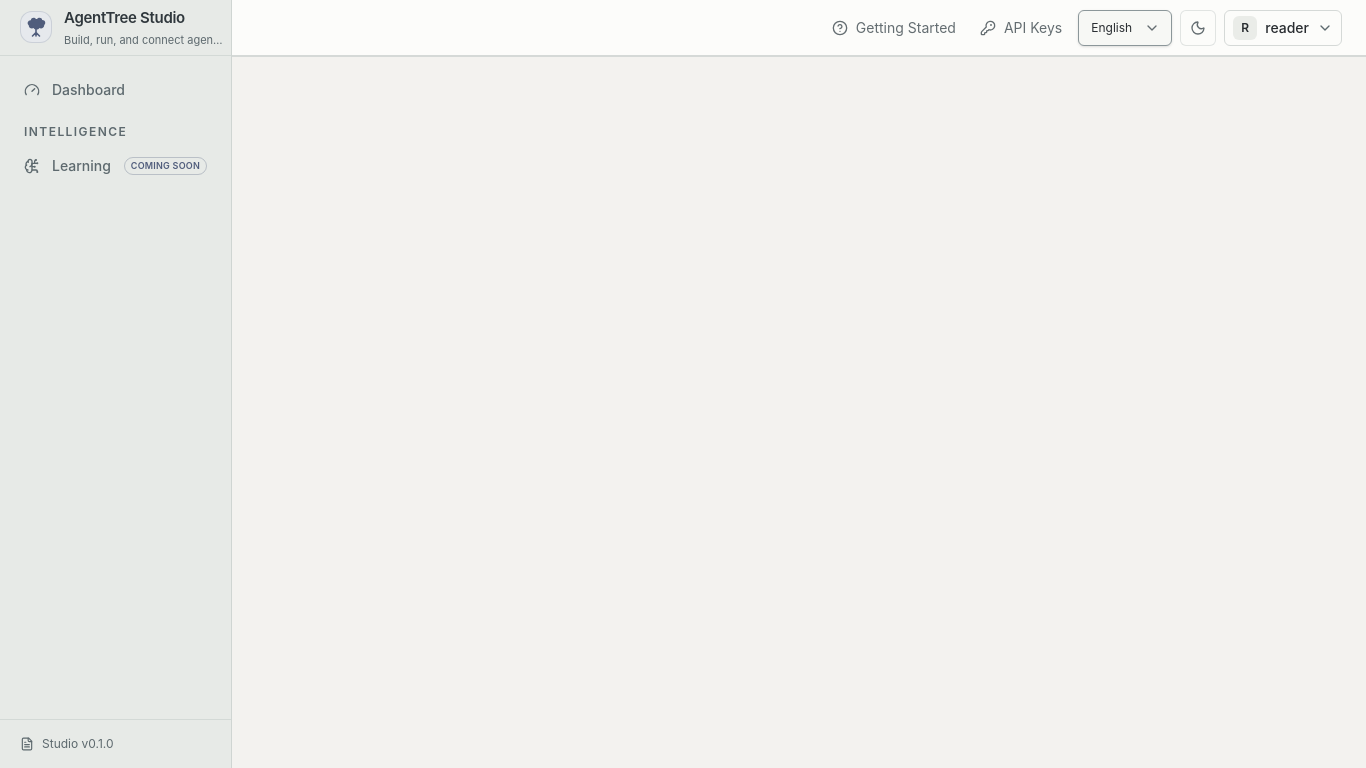
Test case: uses a downward popup and keyboard menu navigation
The width and height of the screenshot is (1366, 768).
Step 1. Click the button with aria-label "Account menu" → (1283,28), box [1224,10,1342,46]
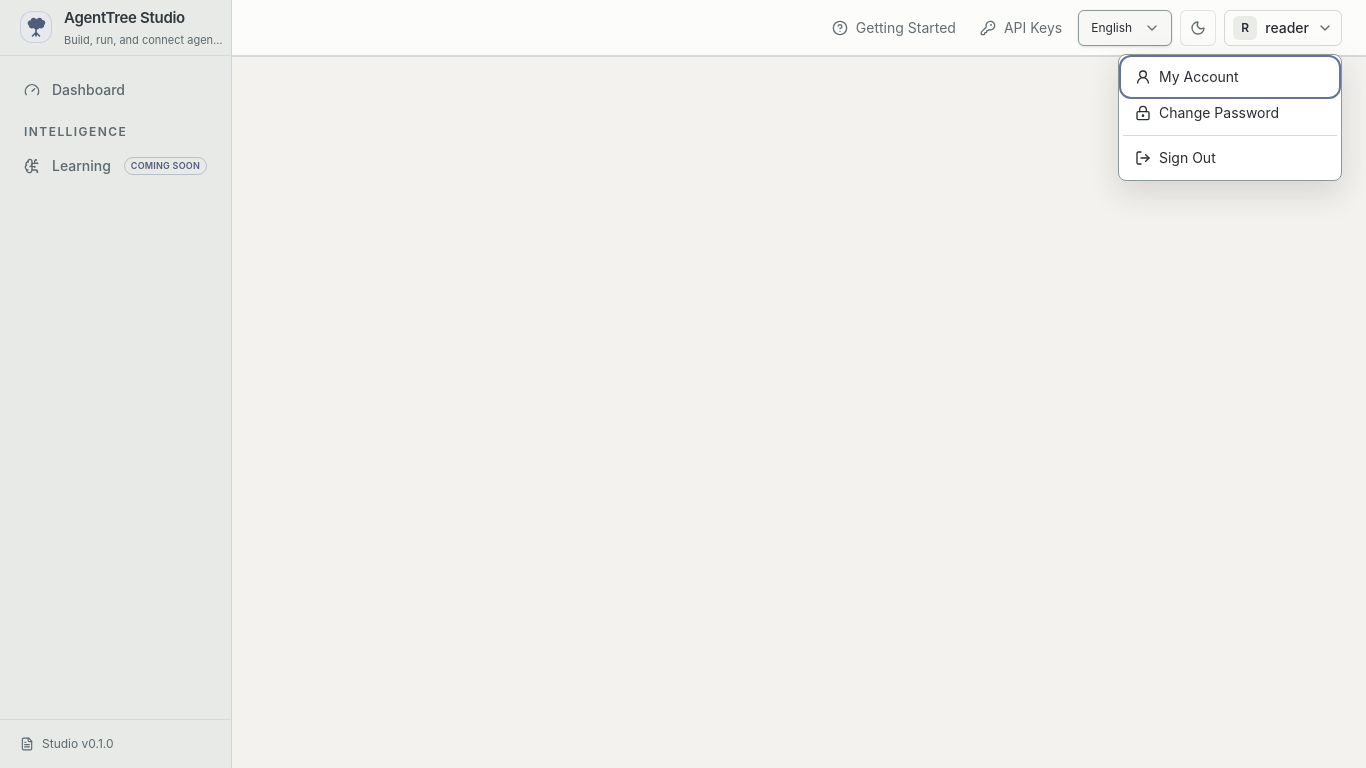
Step 2. Press ArrowDown in the menu, box [1118,54,1342,180]
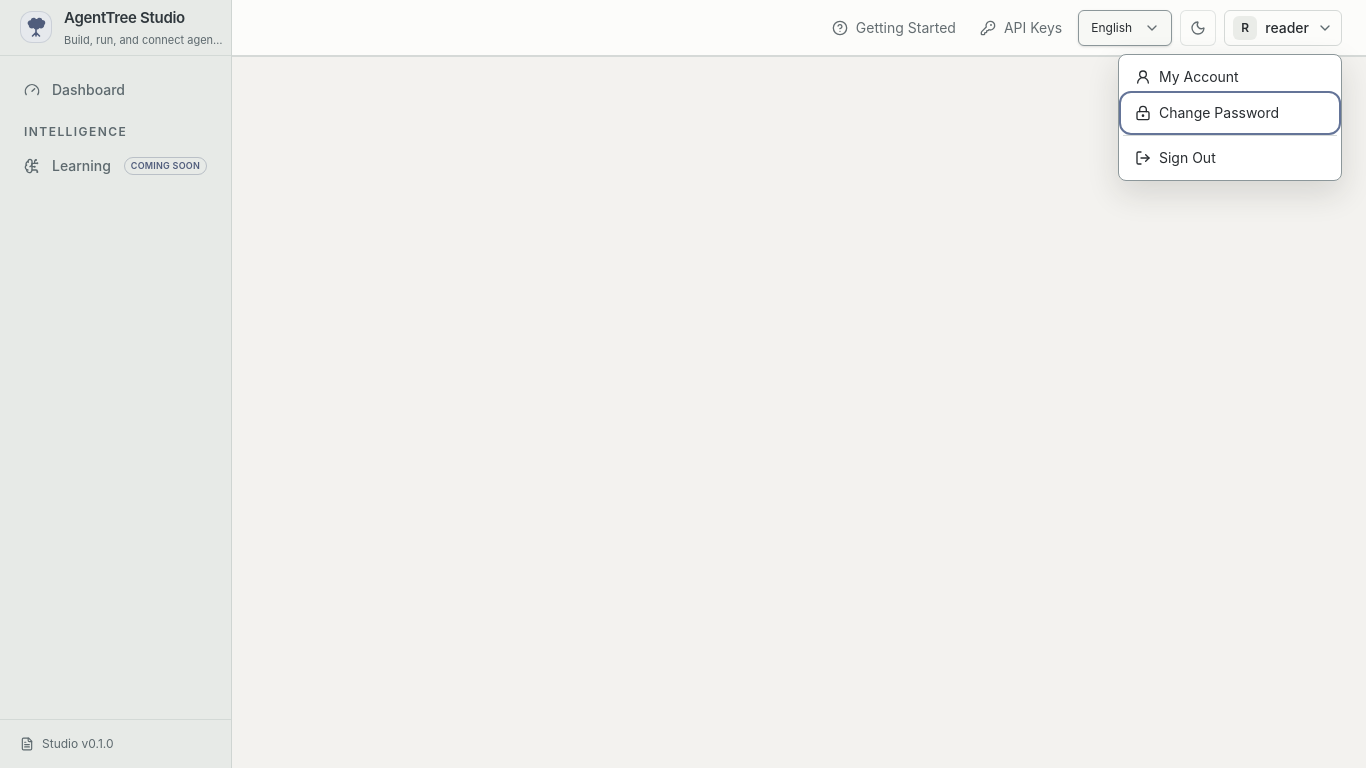
Step 3. Press the mouse on the element that starts with "AgentTree Studio" → (683,384), box [0,0,1365,767]
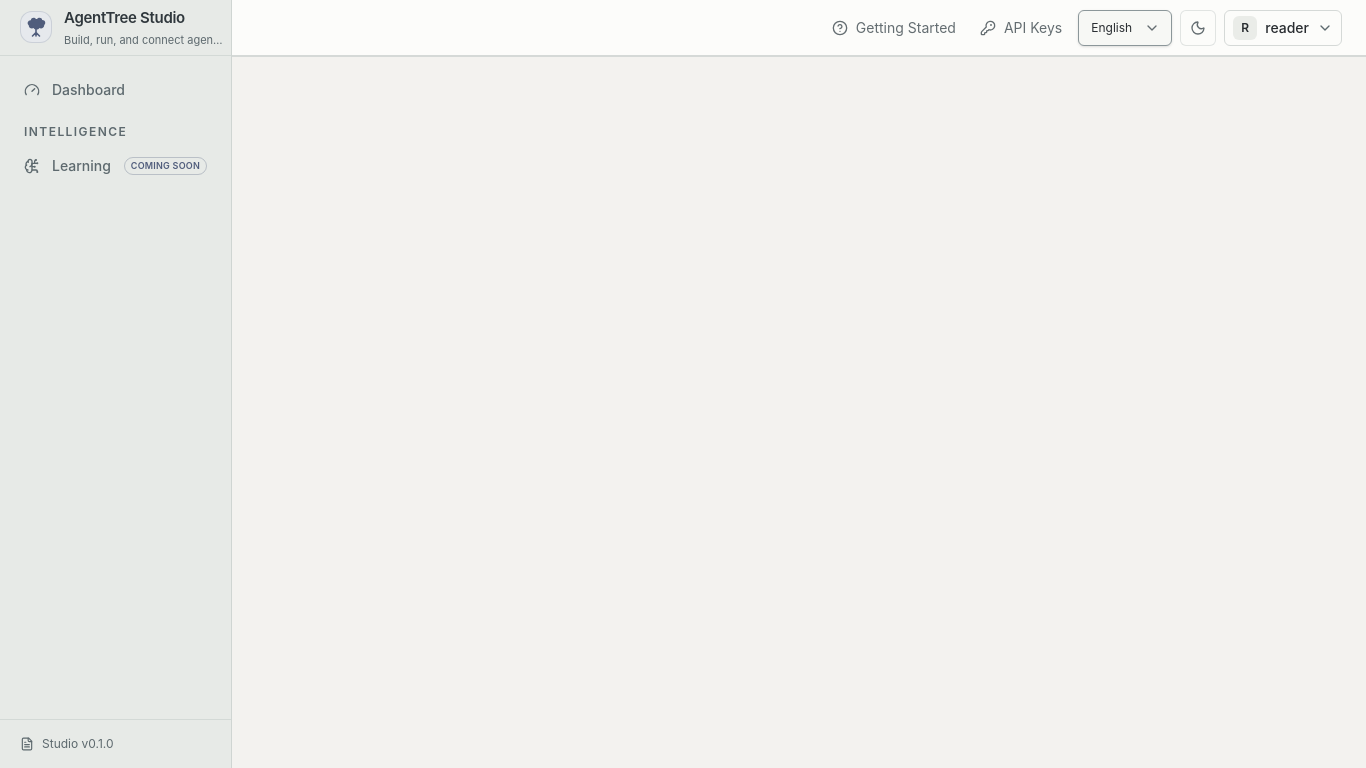
Check: the menu is gone
